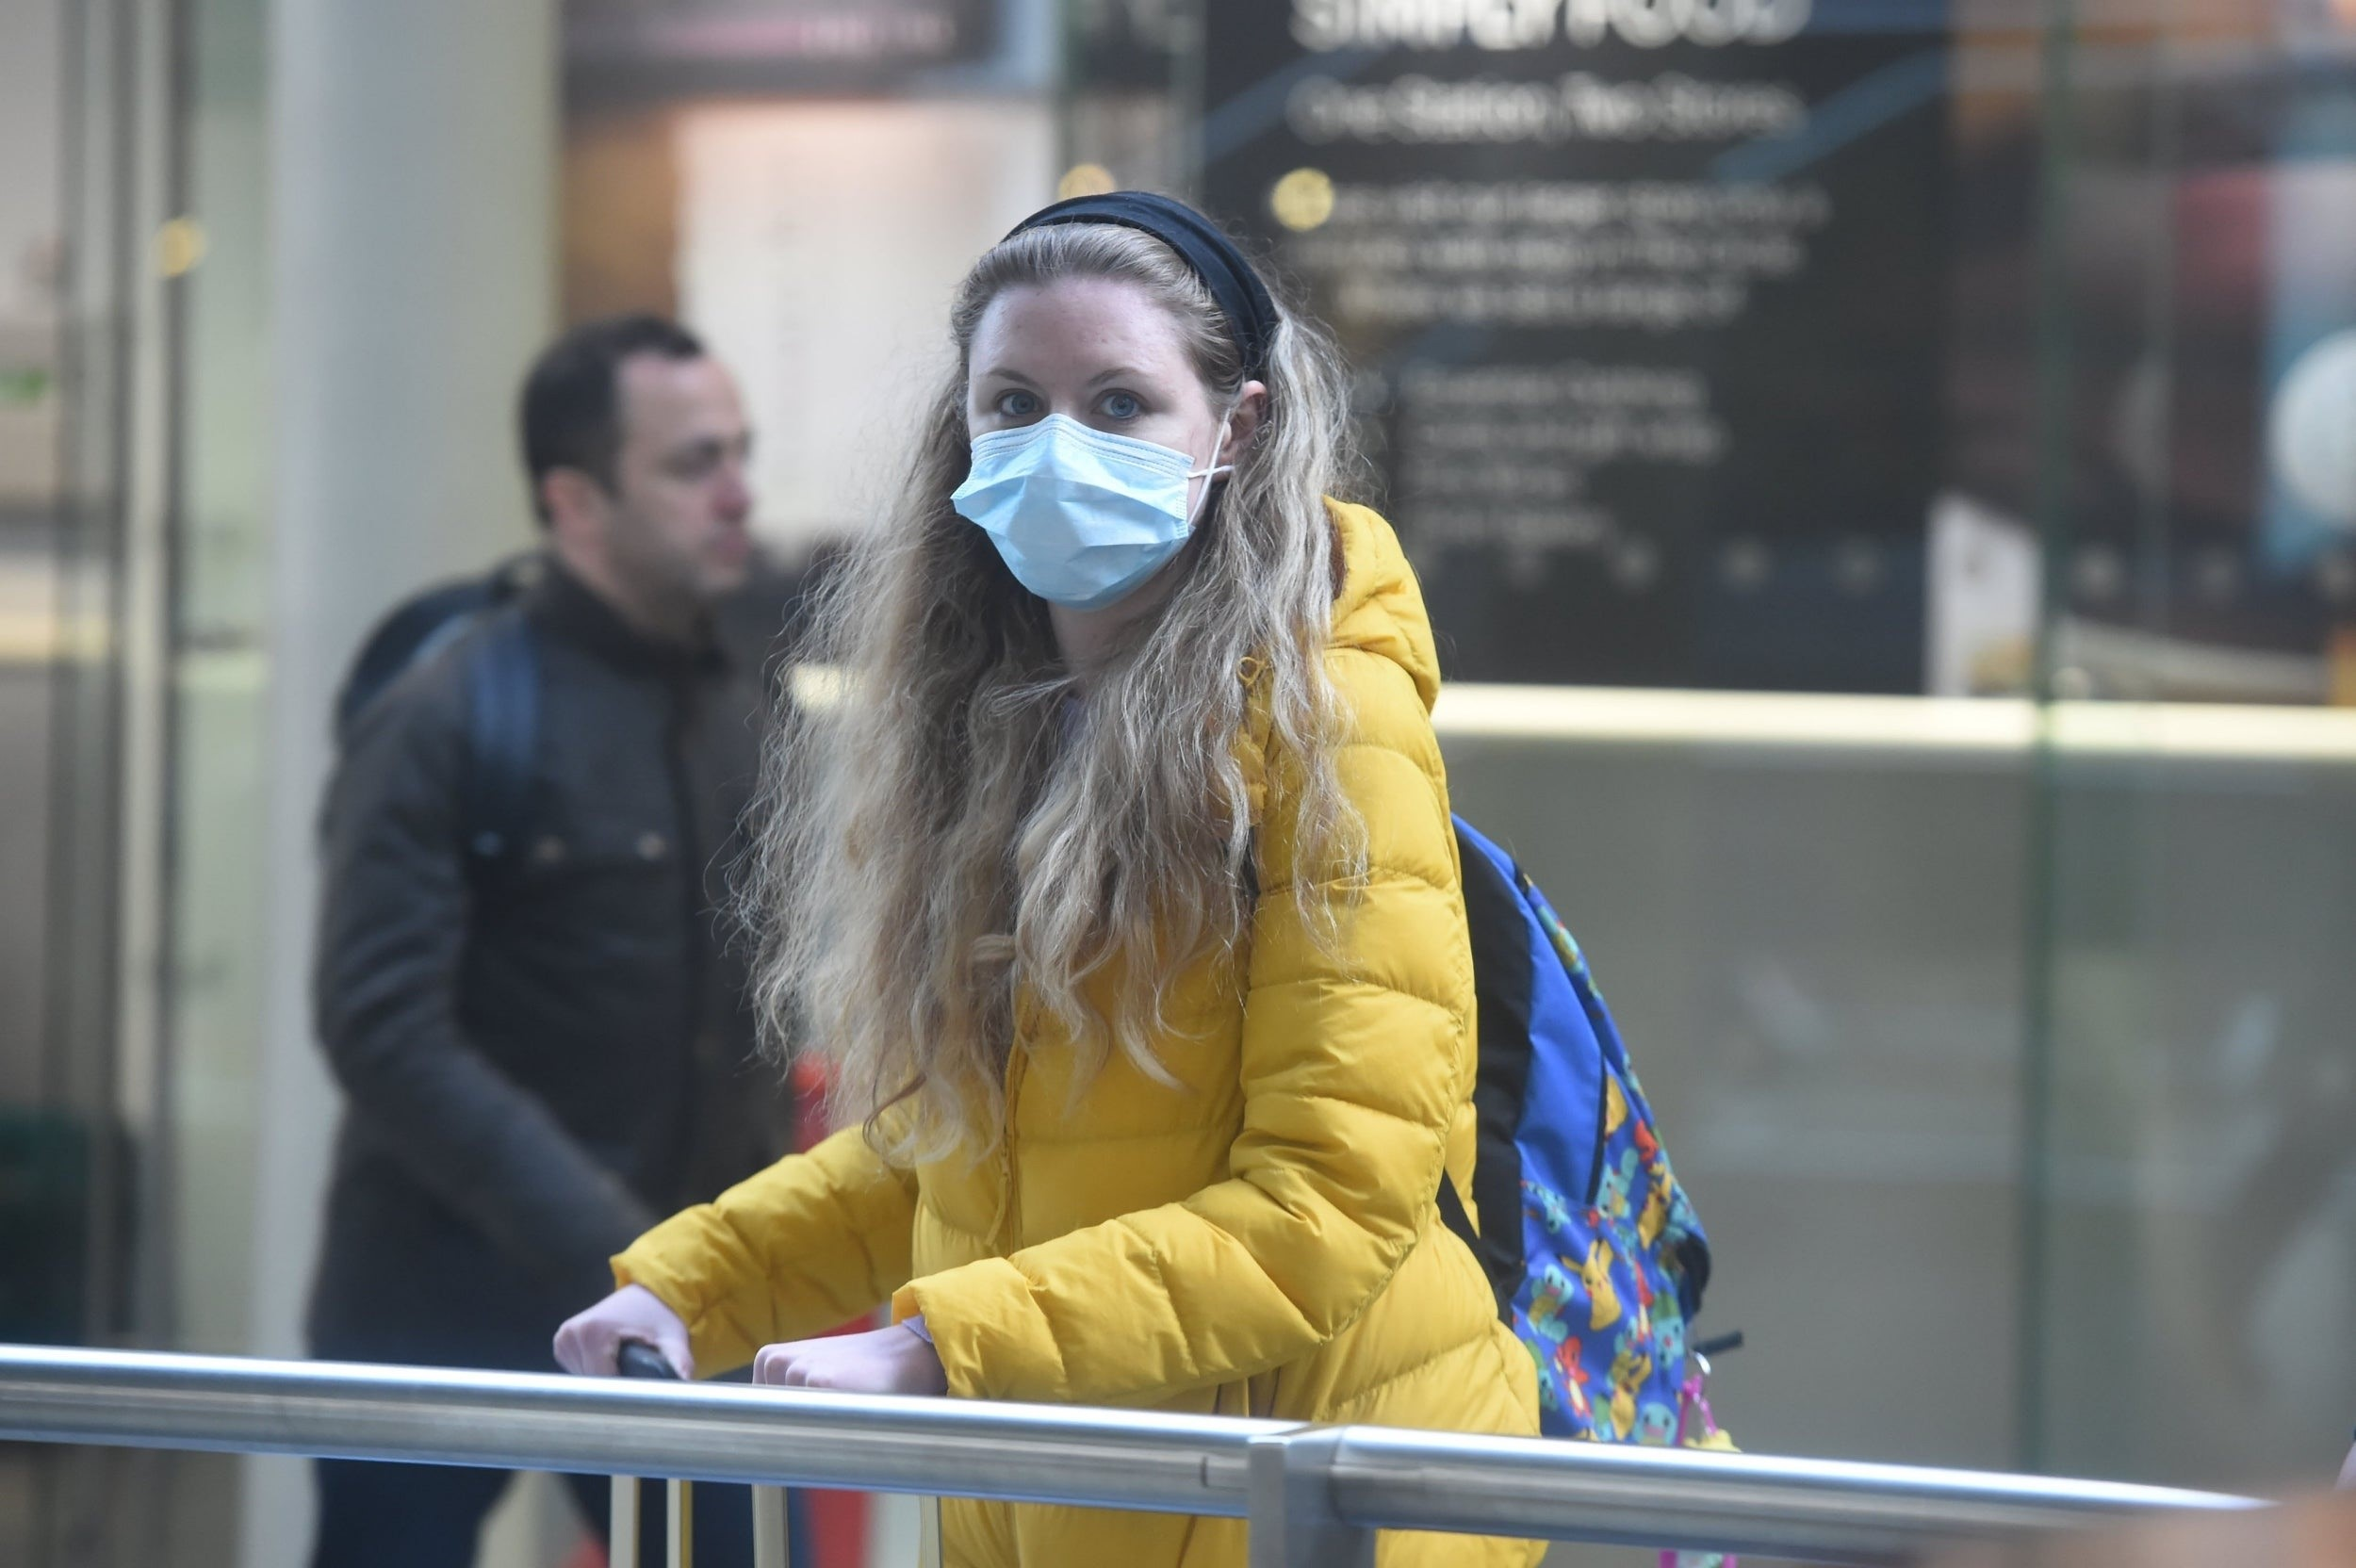face_no_mask: (512, 315, 765, 633)
face_with_mask: (920, 257, 1271, 659)
